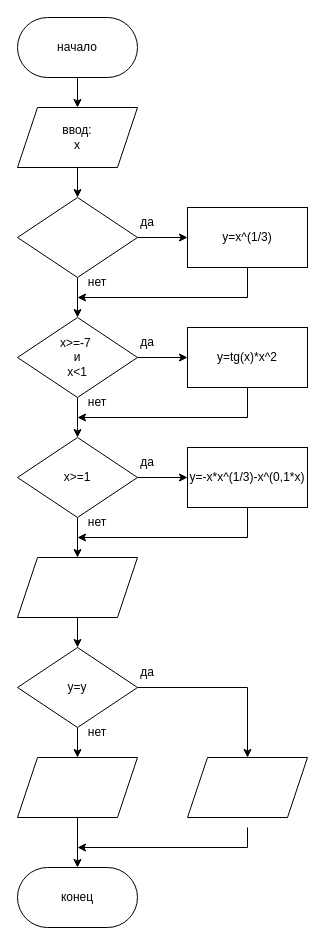
This 325x945 diagram has some shape labels left out. The shapes that lost their labels are listed below. From the top down, each one's centre as x and y in pixels, then its label:
At [77,237]: "x<-7".
At [77,587]: "вывод: x".
At [77,787]: "вывод: корней нет".
At [247,787]: "вывод: y".
